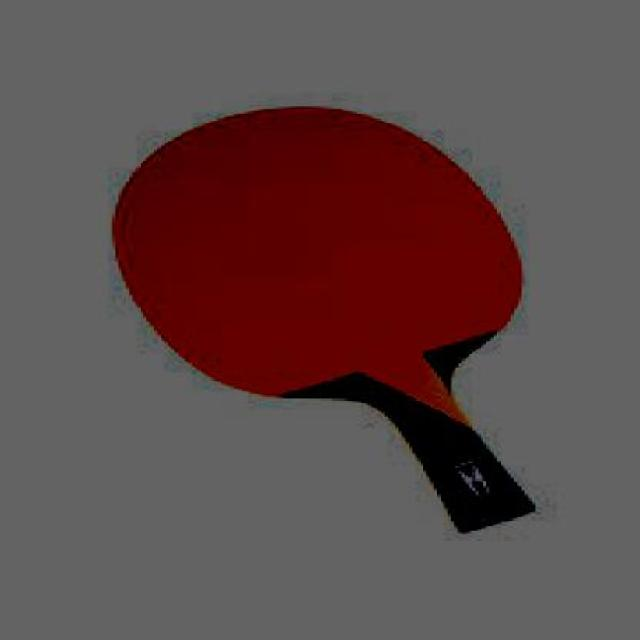table_tennis_racket: (105, 101, 526, 405)
